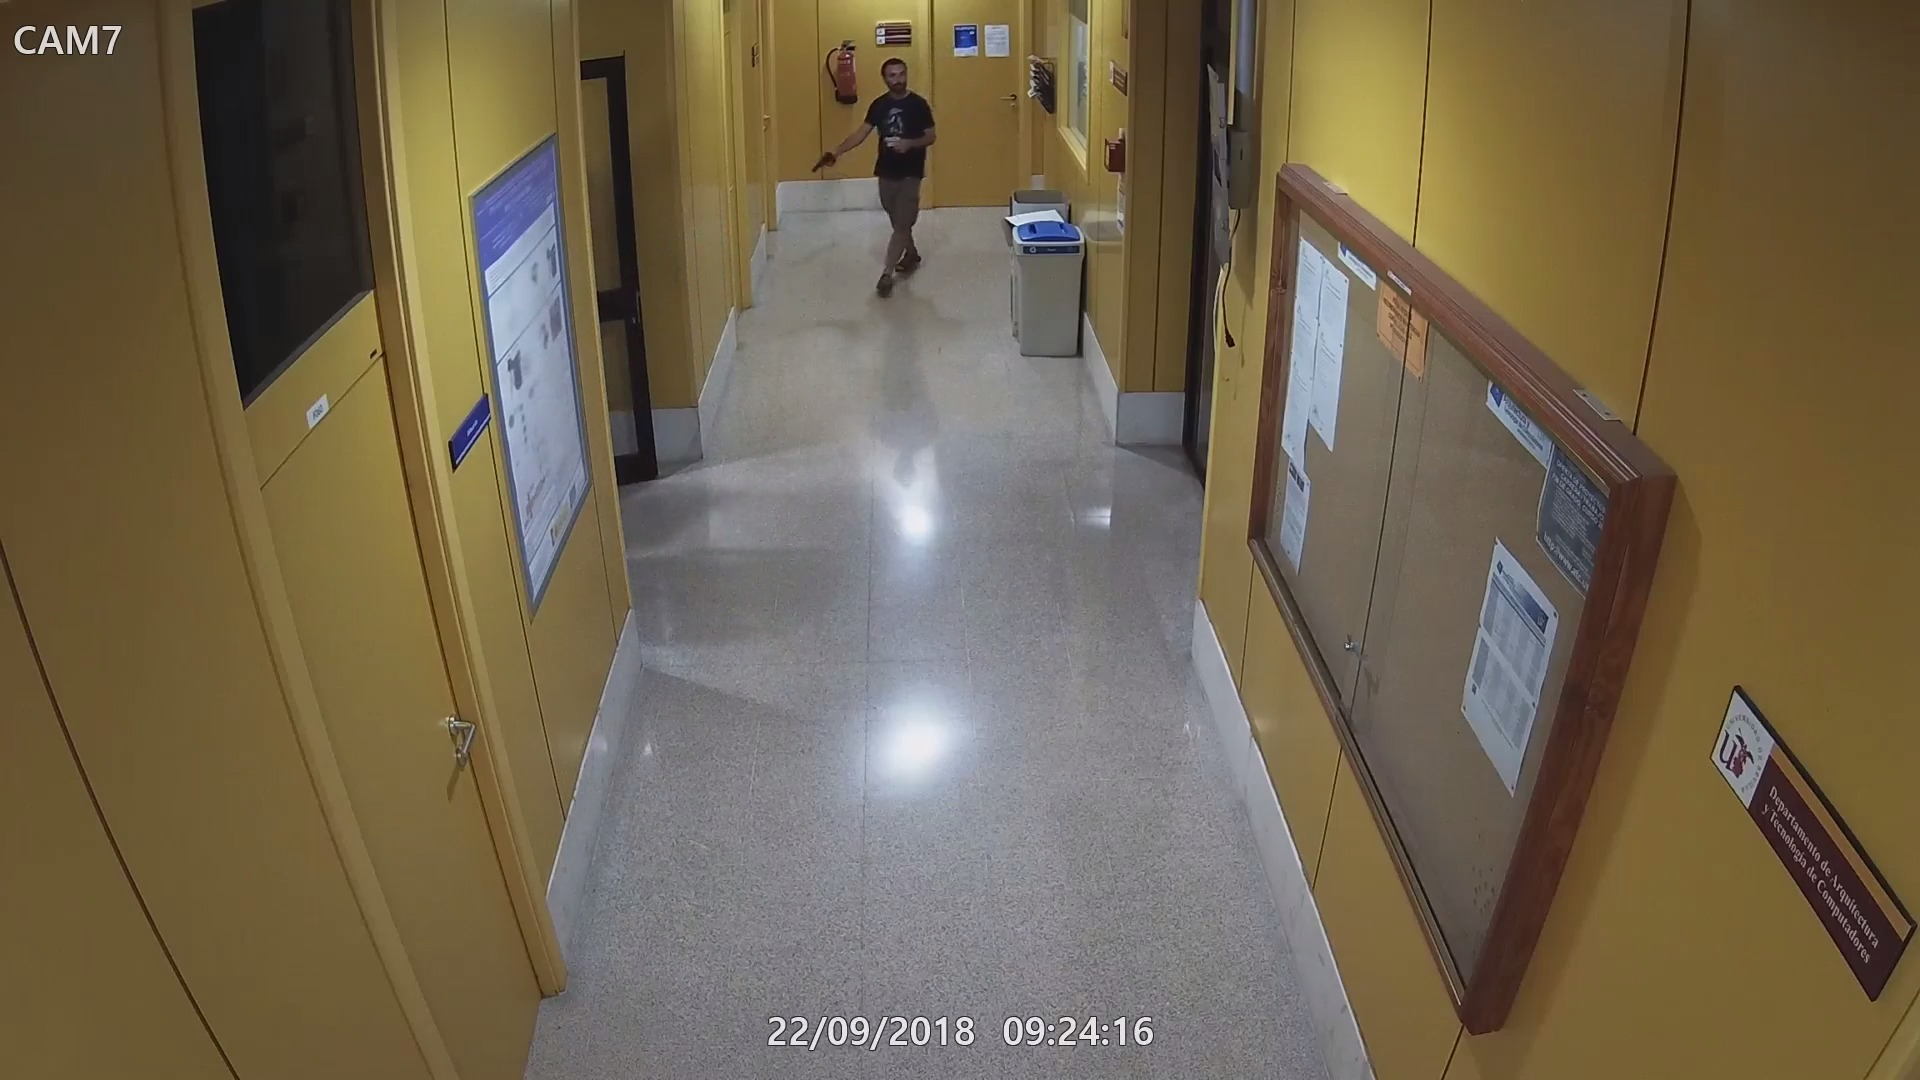Handgun: (810, 148, 839, 175)
